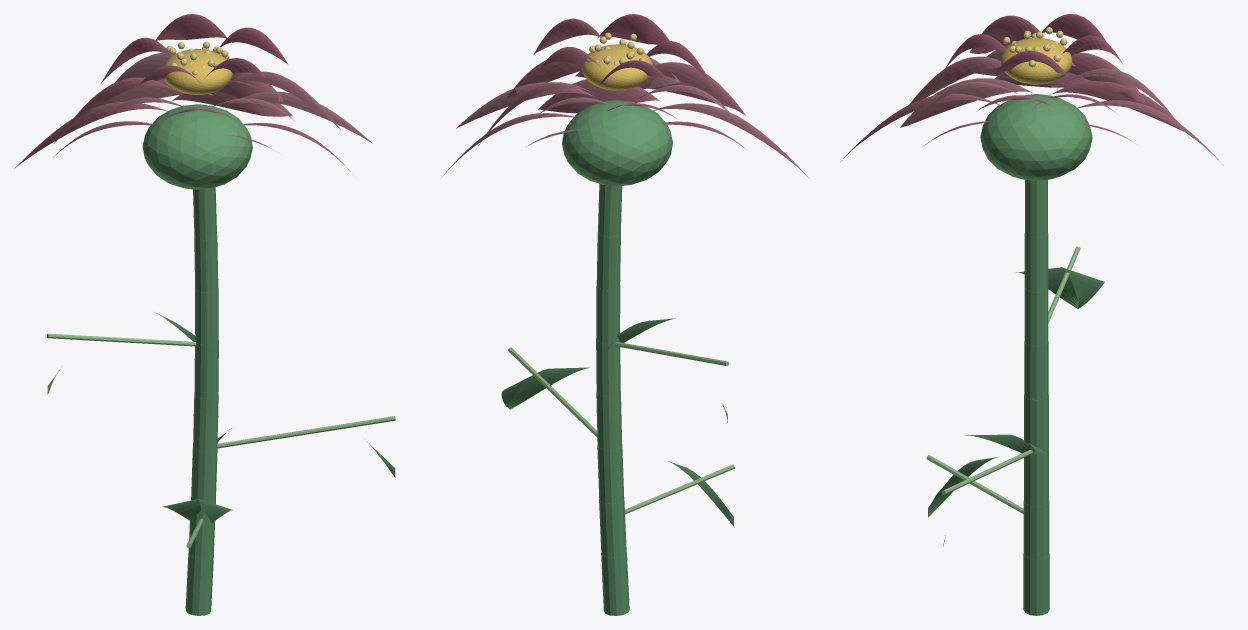
Rendered from asset.glb.
3 renders of one model, left to right at view 1: azimuth 30°, elevation 25°; view 2: azimuth 150°, elevation 25°; view 3: azimuth 270°, elevation 25°, orthographic.
Visible parts, largest first — view 1: flower_part_09, flower_part_30, flower_part_00, flower_part_03, flower_part_04, flower_part_02, flower_part_05, flower_part_06, flower_part_29, flower_part_17, flower_part_07, flower_part_15 (+13 smaller); view 2: flower_part_09, flower_part_30, flower_part_11, flower_part_00, flower_part_01, flower_part_02, flower_part_03, flower_part_04, flower_part_05, flower_part_20, flower_part_06, flower_part_26 (+14 smaller); view 3: flower_part_09, flower_part_30, flower_part_00, flower_part_13, flower_part_01, flower_part_55, flower_part_06, flower_part_05, flower_part_15, flower_part_04, flower_part_20, flower_part_02 (+16 smaller).
Part boxes in pixels (x1,y1,x2,y2): flower_part_09: [142, 104, 252, 189]; flower_part_30: [164, 49, 232, 94]; flower_part_00: [185, 553, 213, 615]; flower_part_03: [193, 393, 218, 451]; flower_part_04: [194, 340, 218, 398]; flower_part_02: [191, 446, 217, 503]; flower_part_05: [195, 288, 218, 345]; flower_part_06: [194, 235, 218, 292]; flower_part_29: [155, 14, 226, 40]; flower_part_17: [171, 80, 292, 116]; flower_part_07: [193, 187, 216, 240]; flower_part_15: [14, 102, 167, 168]; flower_part_09: [562, 100, 672, 186]; flower_part_30: [582, 44, 652, 90]; flower_part_11: [538, 79, 659, 113]; flower_part_00: [601, 552, 629, 615]; flower_part_01: [599, 499, 626, 557]; flower_part_02: [597, 445, 624, 503]; flower_part_03: [596, 391, 622, 450]; flower_part_04: [596, 338, 620, 396]; flower_part_05: [596, 285, 620, 343]; flower_part_20: [654, 62, 745, 115]; flower_part_06: [596, 232, 620, 290]; flower_part_26: [597, 14, 669, 44]; flower_part_09: [980, 94, 1092, 180]; flower_part_30: [1000, 37, 1072, 84]; flower_part_00: [1023, 553, 1049, 615]; flower_part_13: [900, 78, 1032, 127]; flower_part_01: [1023, 500, 1049, 559]; flower_part_55: [1016, 267, 1104, 308]; flower_part_06: [1024, 233, 1048, 292]; flower_part_05: [1024, 288, 1048, 346]; flower_part_15: [1049, 81, 1183, 131]; flower_part_04: [1024, 341, 1048, 400]; flower_part_20: [909, 56, 1001, 104]; flower_part_02: [1024, 448, 1048, 506].
Size of the model in its own units: 1.27 by 2.06 by 1.27.
